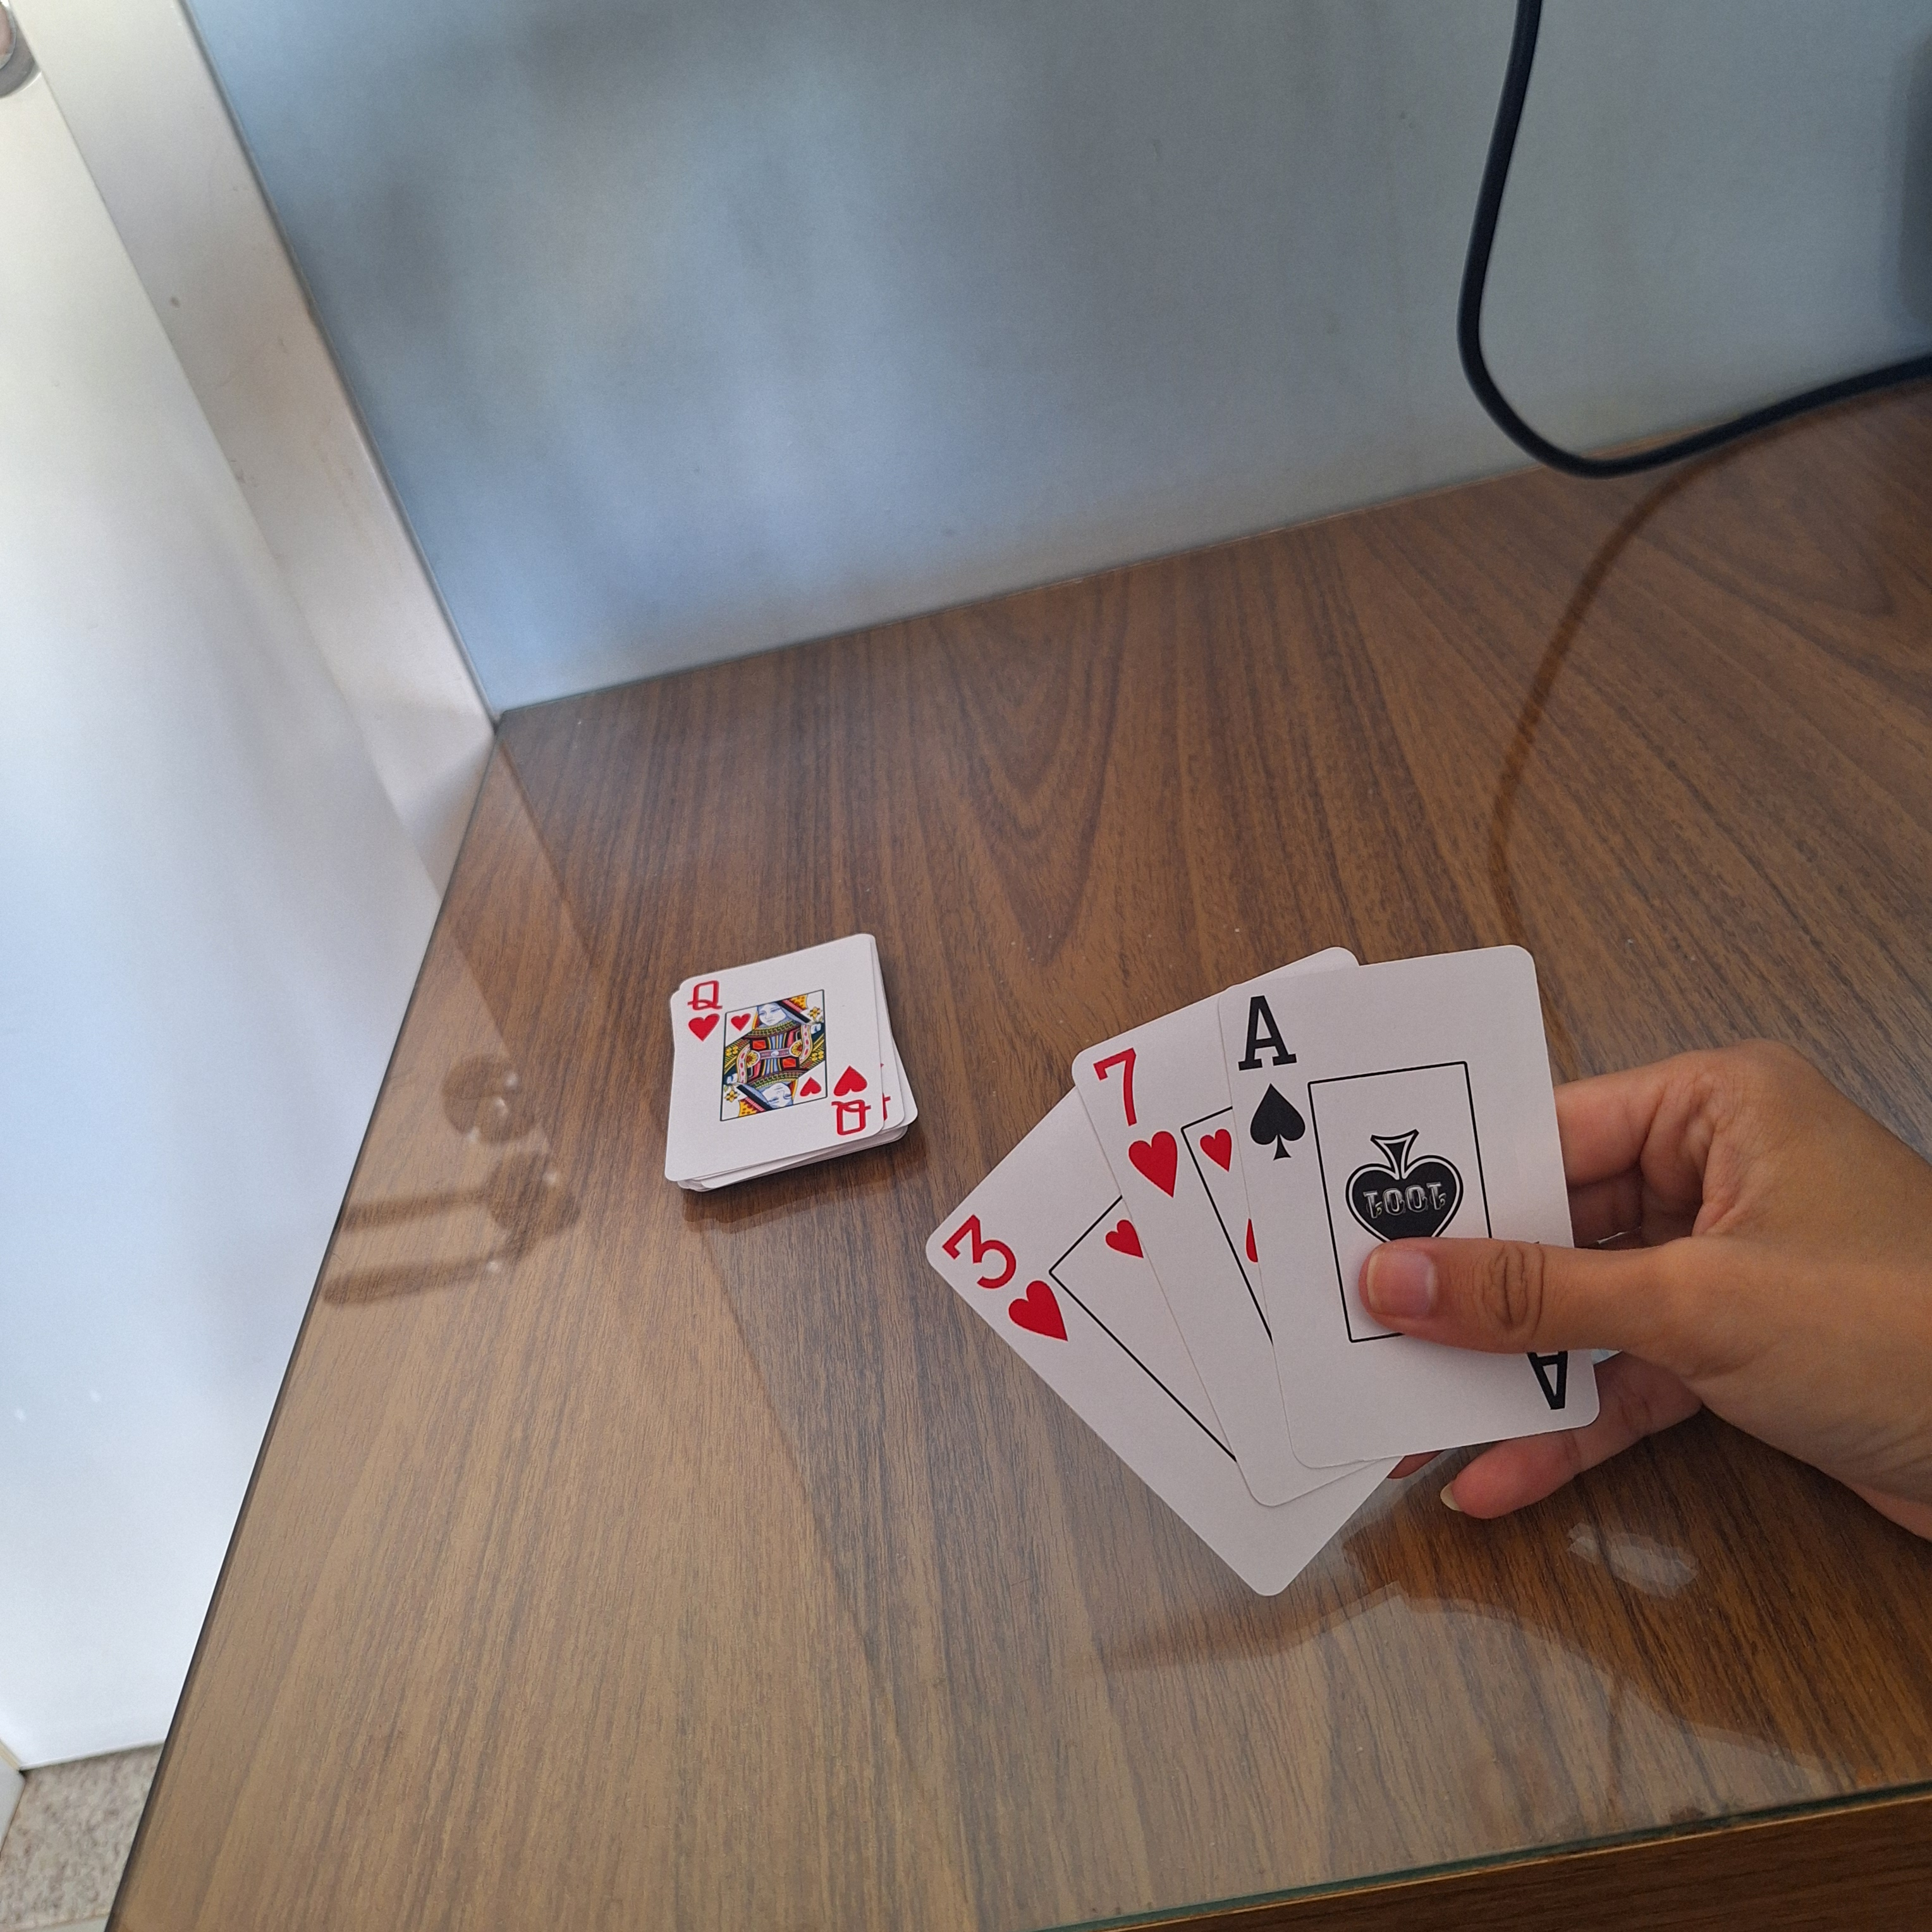3C: (927, 1203, 1076, 1357)
7C: (1088, 1042, 1187, 1208)
AE: (1230, 985, 1320, 1175)
QC: (826, 1058, 876, 1141), (679, 975, 724, 1046)
